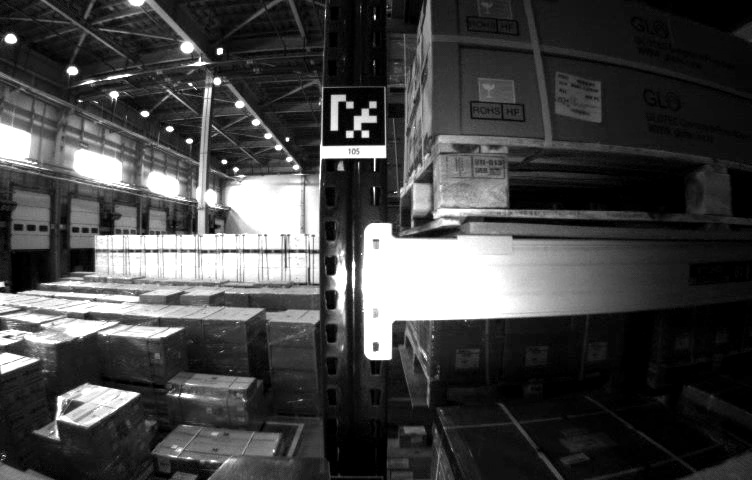True Barcode: (552, 66, 605, 121)
